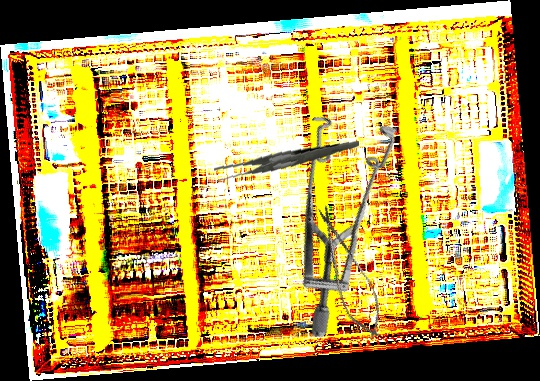Dressing Forceps: (212, 126, 360, 197)
Micro Scissor: (304, 198, 393, 348)
Speculum: (205, 82, 462, 340)
